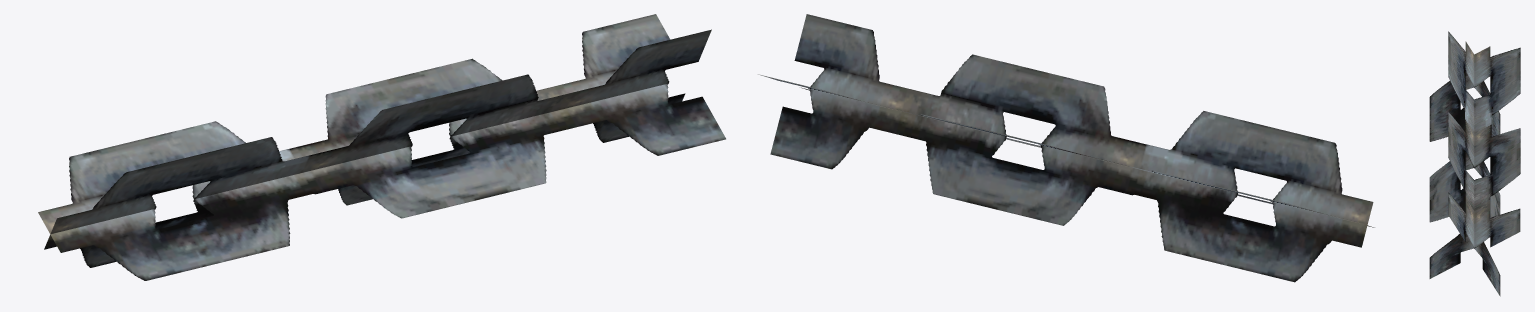
File: environment_common_xueditielian_001_a.FBX
3 renders of one model, left to right at view 1: azimuth 30°, elevation 25°; view 2: azimuth 150°, elevation 25°; view 3: azimuth 270°, elevation 25°, orthographic. The views are drawn at different scales.
Visible parts, largest first — view 1: environment_common_xueditielian_001_01; view 2: environment_common_xueditielian_001_01; view 3: environment_common_xueditielian_001_01.
Part boxes in pixels (<box>): environment_common_xueditielian_001_01: <box>38,14,725,280</box>; environment_common_xueditielian_001_01: <box>758,14,1374,282</box>; environment_common_xueditielian_001_01: <box>1429,31,1520,296</box>.
Bounding box in the file's own units: 323 × 61.69 × 62.53.
